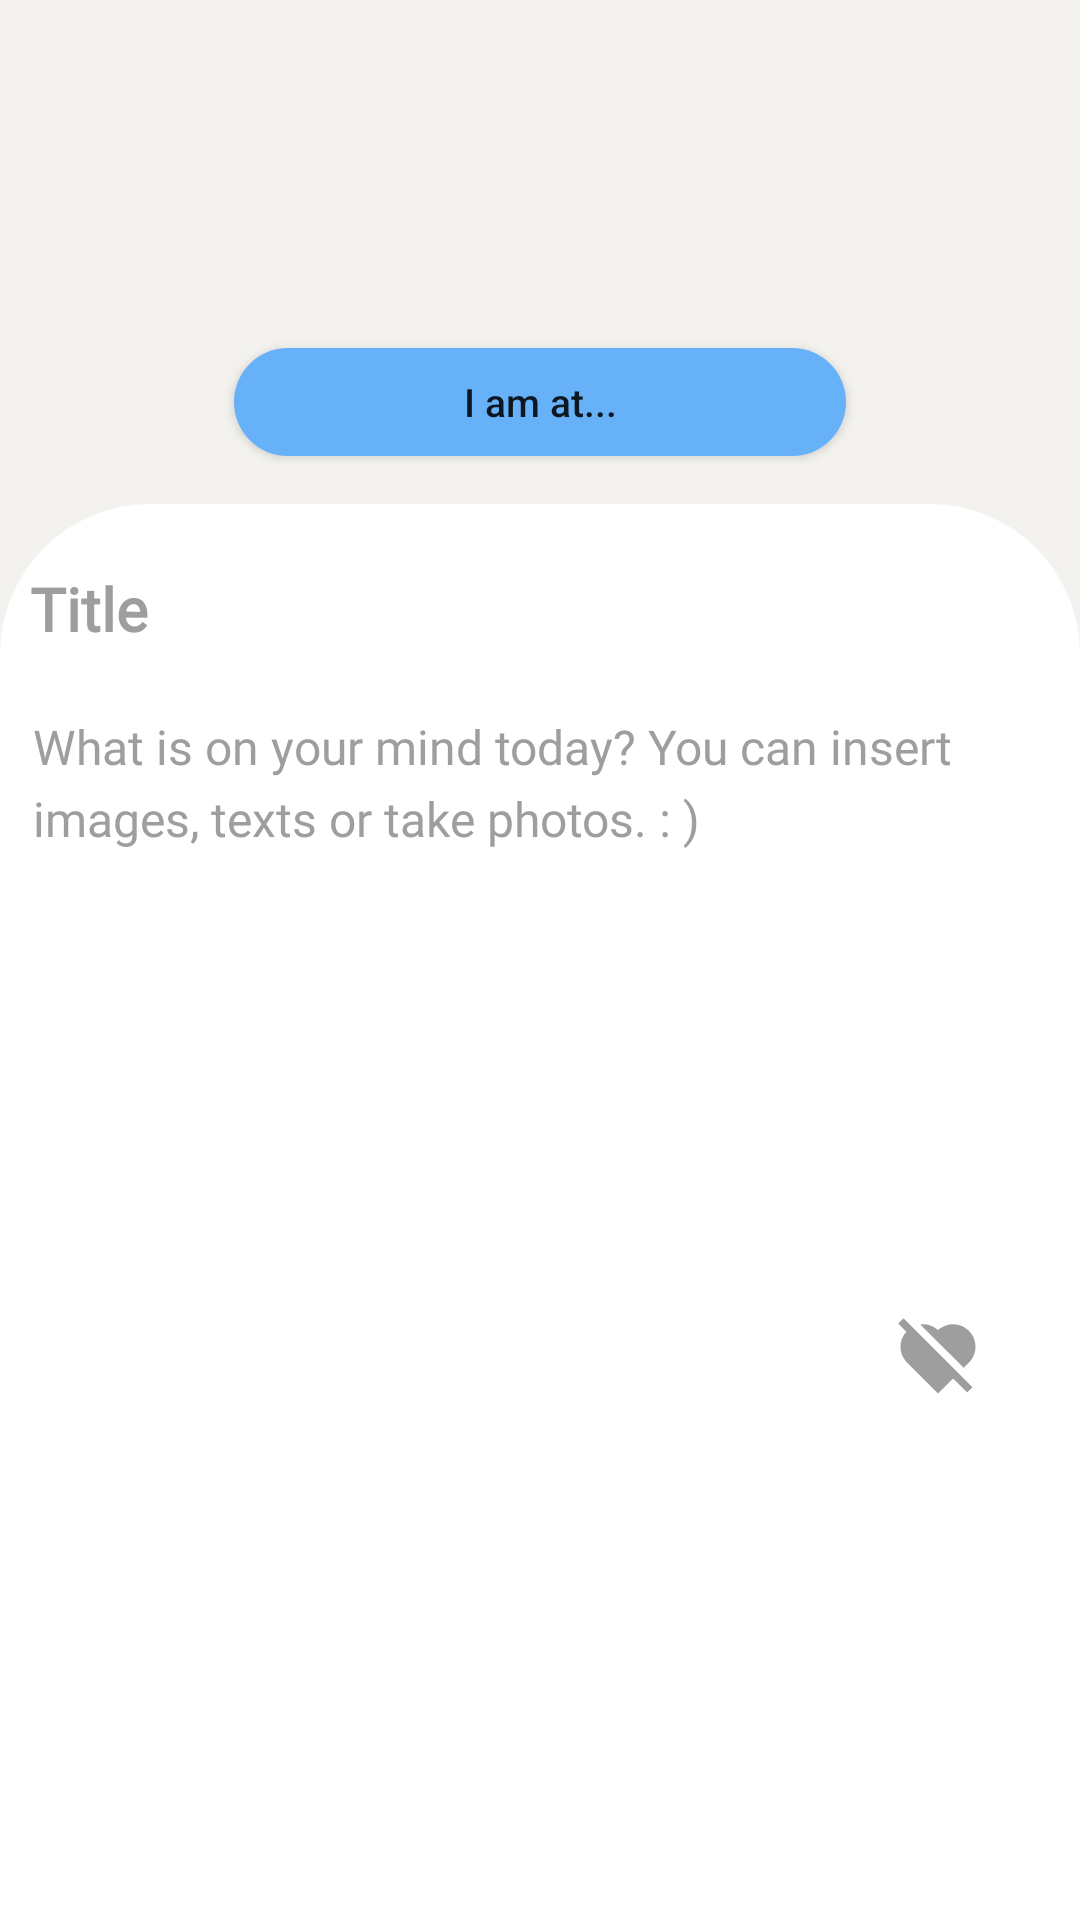

Screen size 1080×1920. Icon name, then its center in pixels as (x=x, y=y):
dislike: (x=937, y=1355)
